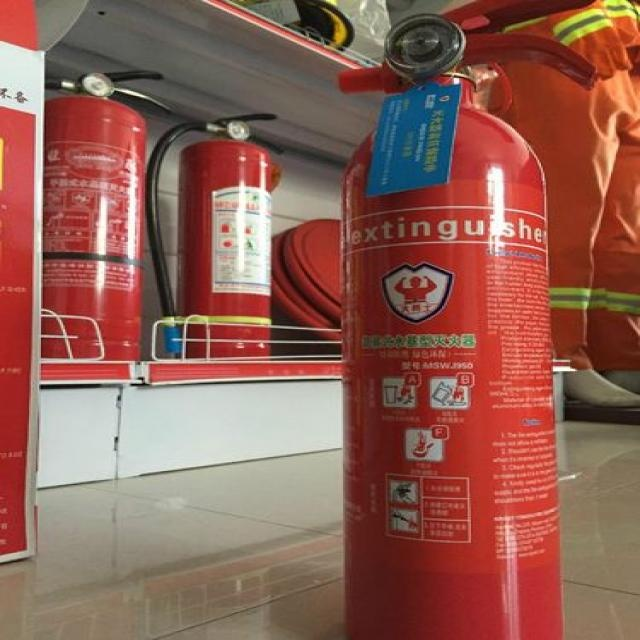fire extinguisher: (278, 10, 603, 636)
